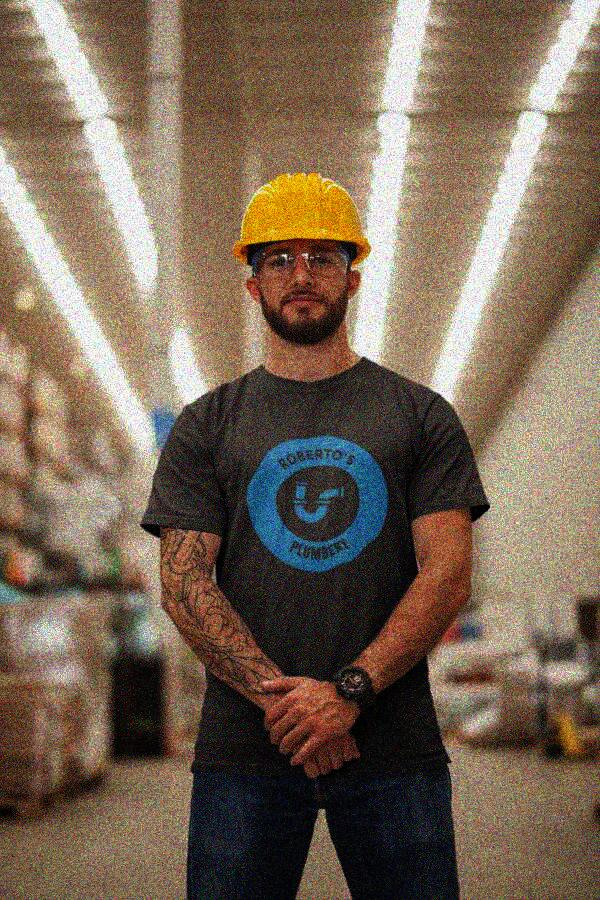helmet: (229, 171, 375, 346)
